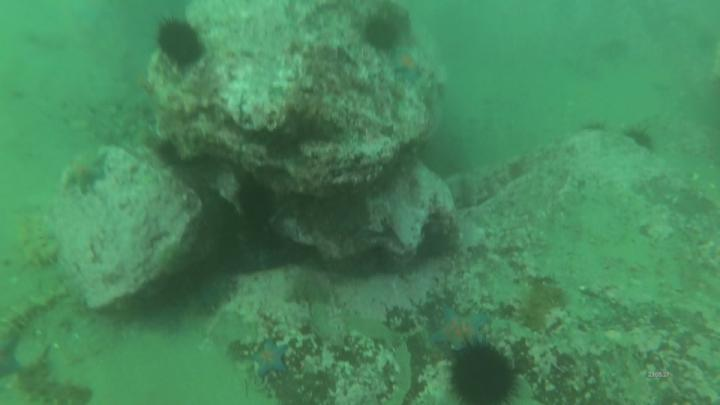echinus: (451, 336, 519, 405), (151, 14, 208, 69), (364, 12, 402, 54)
holothurian: (516, 278, 564, 335), (1, 296, 60, 338), (19, 215, 59, 266)
starfish: (430, 307, 489, 355), (63, 149, 110, 195), (386, 45, 434, 84), (255, 338, 290, 379), (1, 340, 25, 380)
